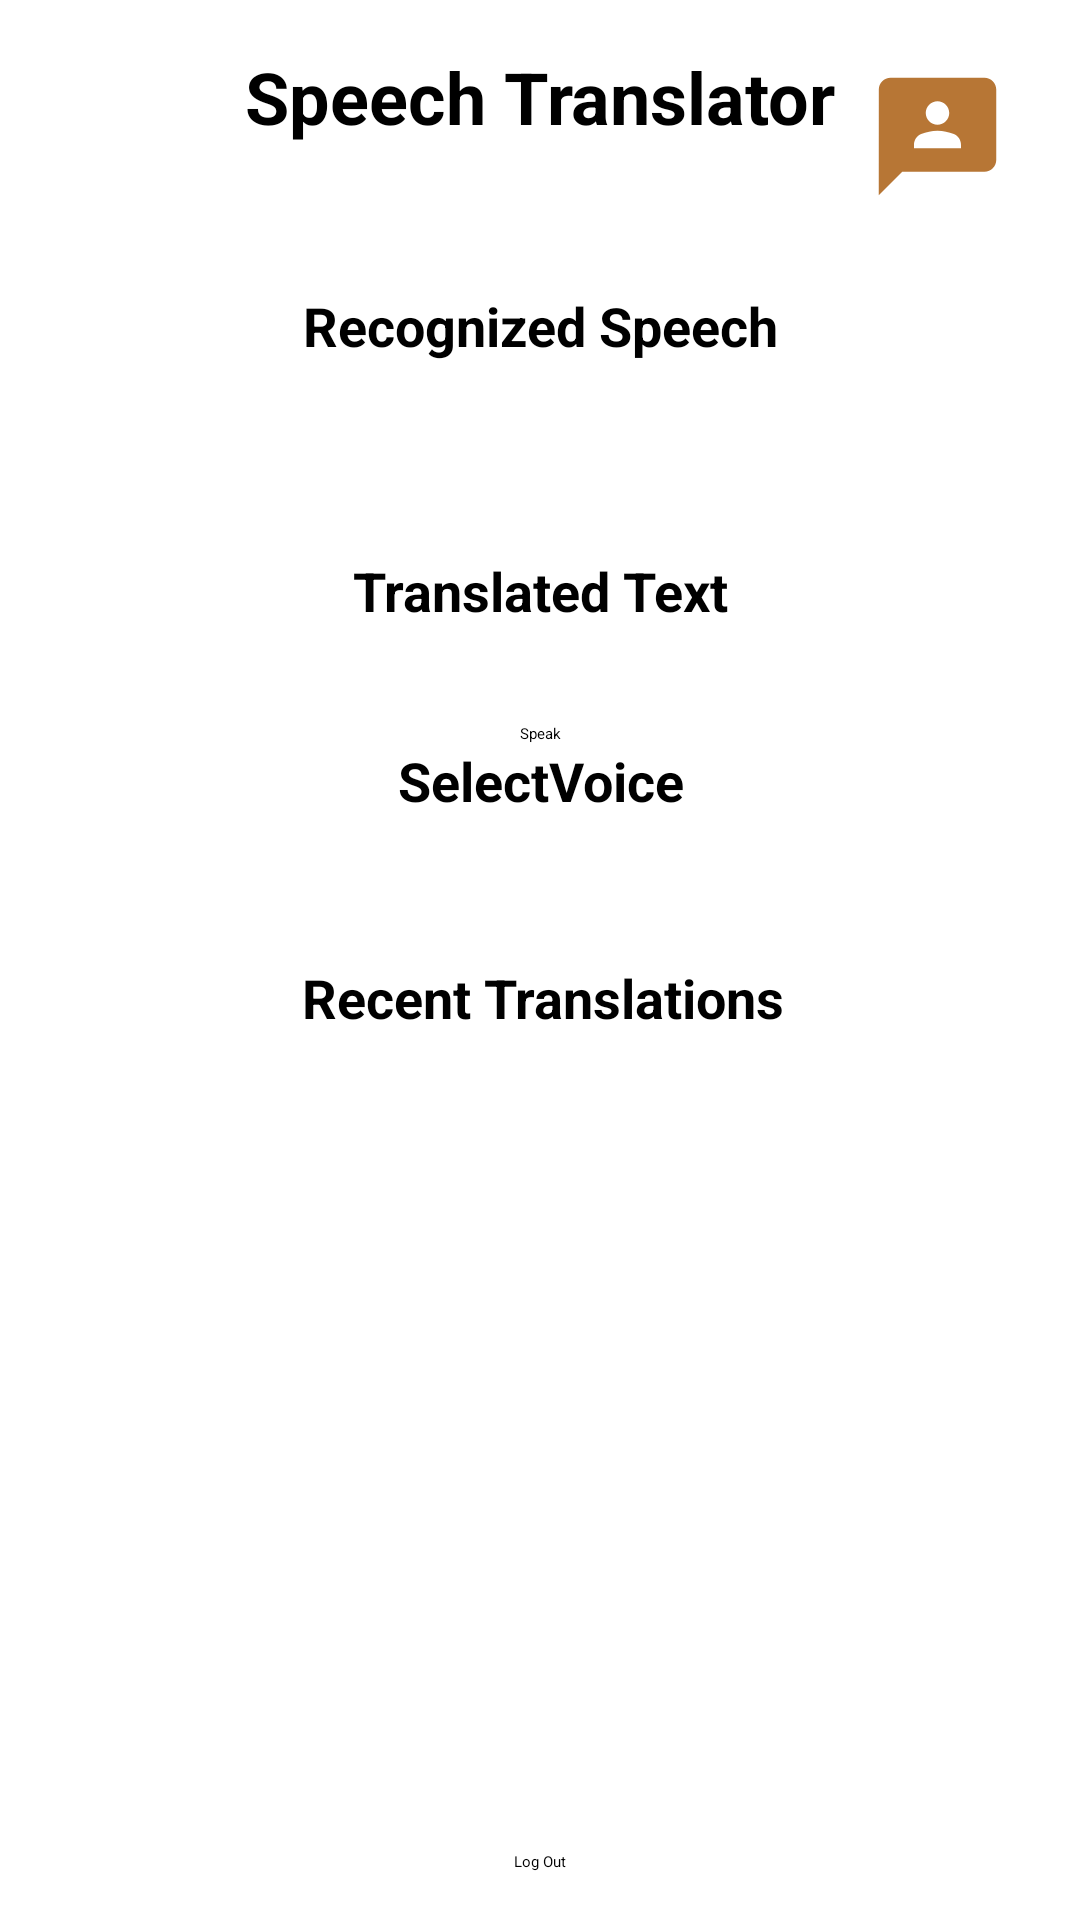

Screen size 1080 x 1920. Icon name, then its center in pixels as (x=x, y=y):
Profile button: (x=937, y=136)
